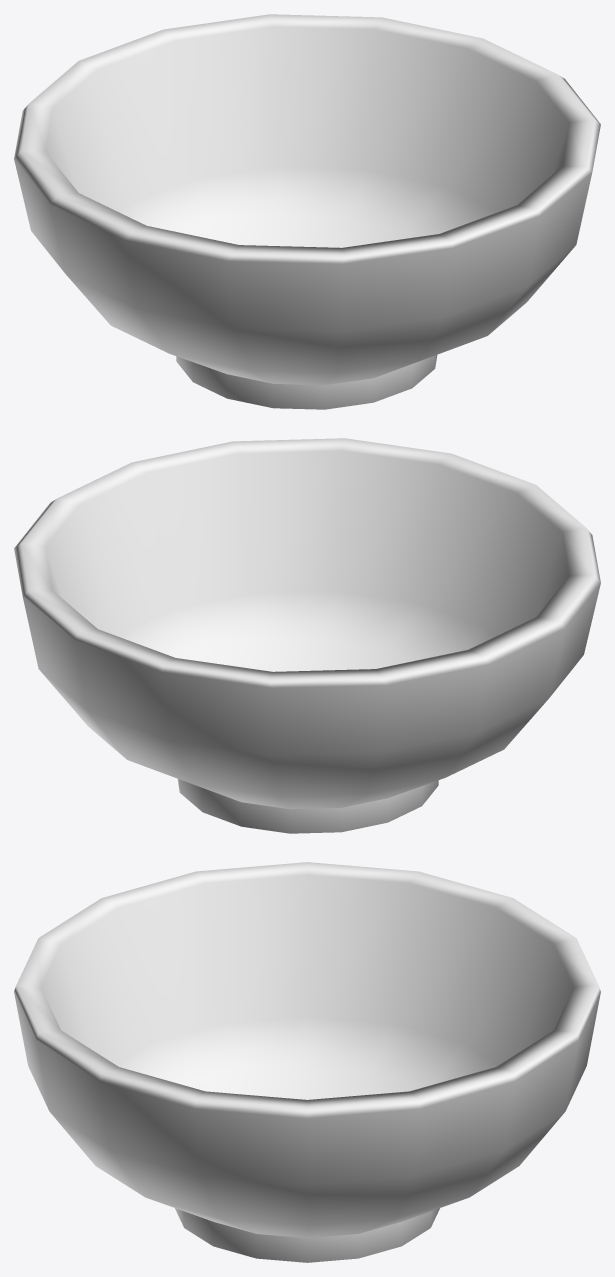
The model's file is SM_Bowls_S.fbx.
The picture shows the model from 3 angles, top to bottom: view 1: azimuth 30°, elevation 25°; view 2: azimuth 150°, elevation 25°; view 3: azimuth 270°, elevation 25°; orthographic projection.
Parts seen in each view (by area): view 1: SM_Bowls_S; view 2: SM_Bowls_S; view 3: SM_Bowls_S.
Part boxes in pixels (<box>): SM_Bowls_S: <box>14,14,600,409</box>; SM_Bowls_S: <box>14,438,600,833</box>; SM_Bowls_S: <box>14,862,600,1262</box>.
Bounding box in the file's own units: 15.01 × 6.11 × 14.68.
